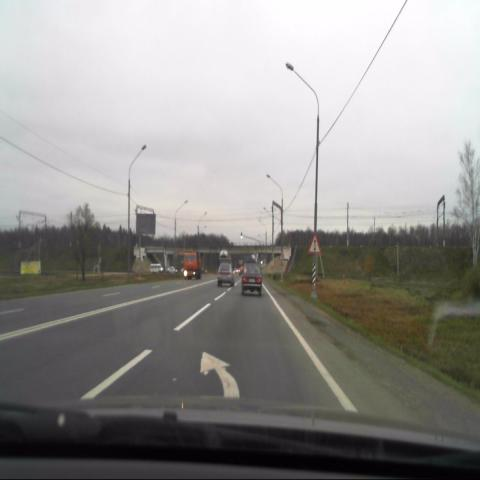1_8: (308, 233, 320, 254)
